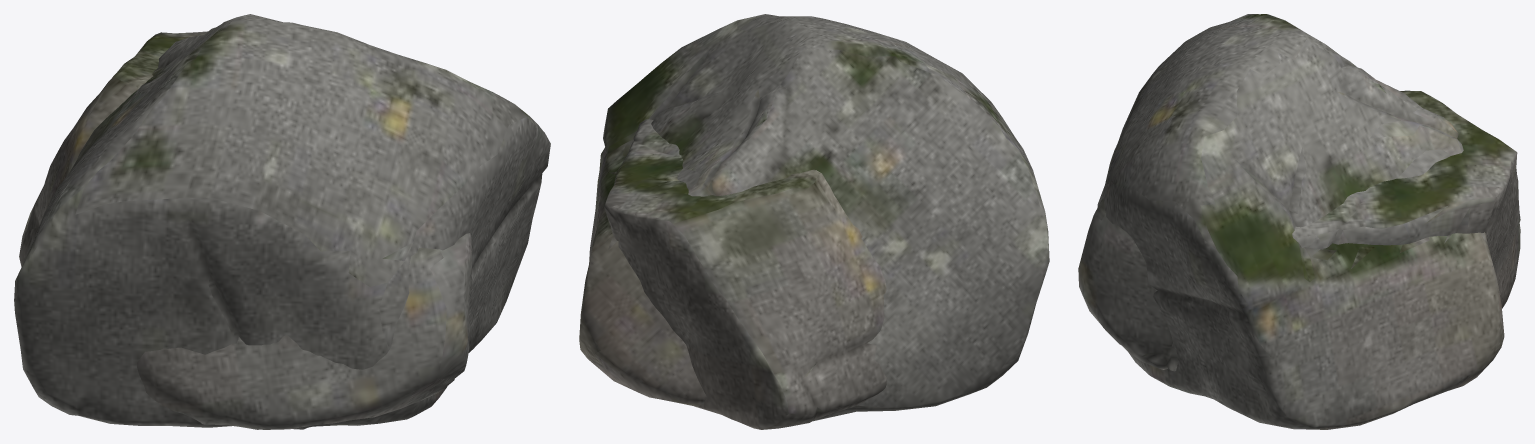
Rendered from rocks_b.glb.
3 renders of one model, left to right at view 1: azimuth 30°, elevation 25°; view 2: azimuth 150°, elevation 25°; view 3: azimuth 270°, elevation 25°, orthographic. The views are drawn at different scales.
Parts seen in each view (by area): view 1: rock_1, rock_3; view 2: rock_1, rock_3; view 3: rock_1, rock_3.
Boxes of the visible parts, left/top/right/bottom form: rock_1: left=14, top=14, right=550, bottom=429; rock_3: left=19, top=31, right=472, bottom=429; rock_1: left=579, top=14, right=1049, bottom=421; rock_3: left=604, top=119, right=887, bottom=429; rock_1: left=1097, top=14, right=1504, bottom=429; rock_3: left=1078, top=90, right=1520, bottom=371.
Size of the model in its own units: 1.51 by 1.01 by 1.3.
Materials: 1 (1 with a texture image).
